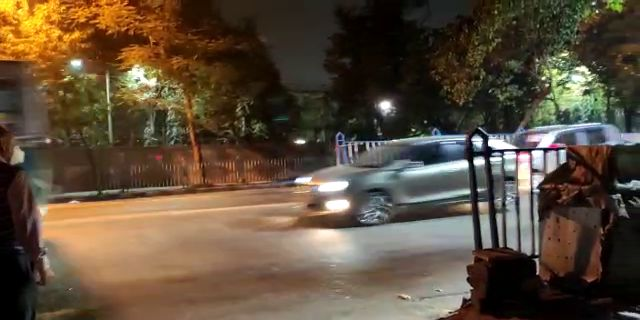Car: (302, 135, 526, 221)
